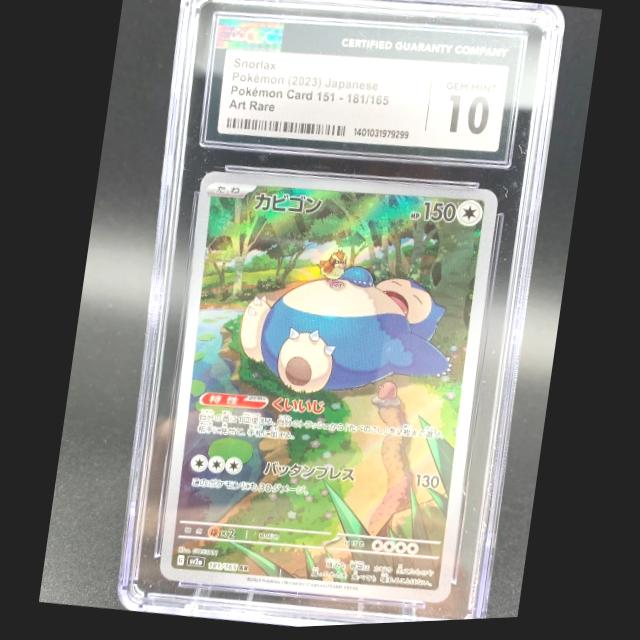card: (157, 170, 499, 610)
cgc_label: (204, 17, 522, 168)
cgc_slab: (114, 0, 567, 630)
